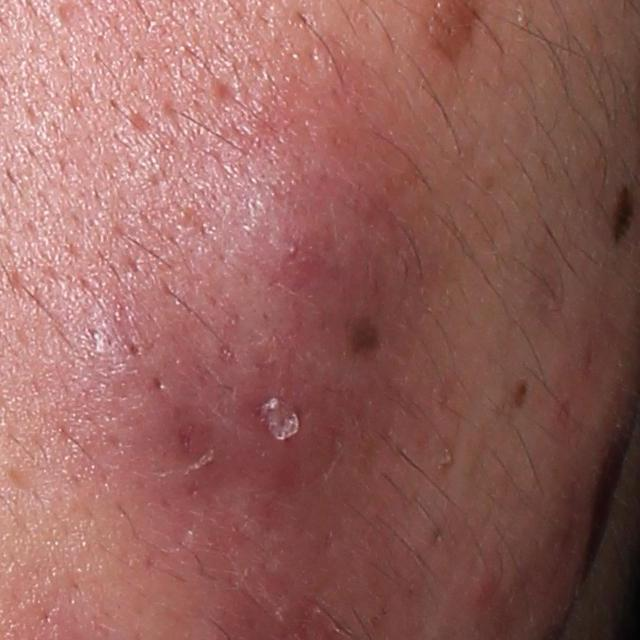atrophic_scar: (212, 74, 243, 108), (127, 107, 158, 135)
nevus: (610, 185, 636, 243), (348, 317, 386, 353), (506, 377, 529, 408)
